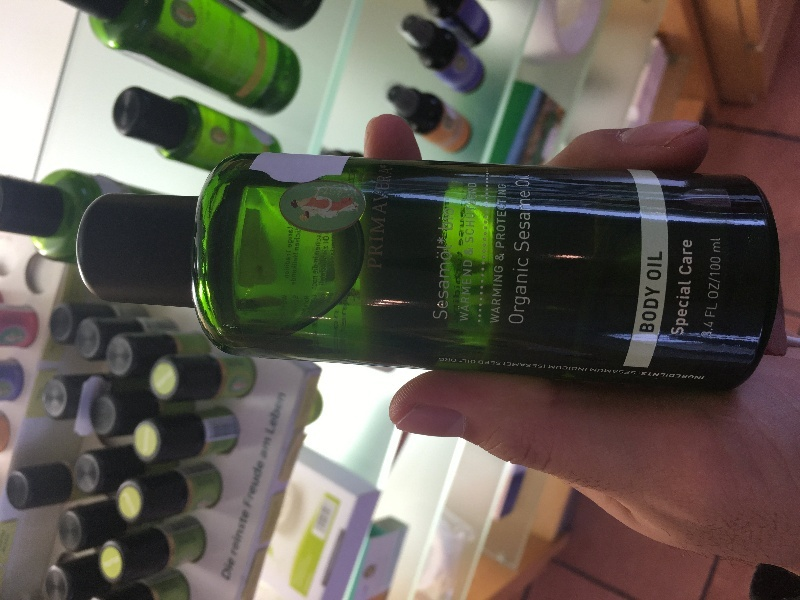text: (497, 184, 512, 325), (468, 182, 480, 322), (452, 188, 464, 319), (273, 391, 288, 462), (439, 207, 448, 322), (513, 257, 528, 326), (258, 391, 272, 462), (385, 166, 394, 272), (241, 459, 256, 512), (377, 166, 384, 272), (226, 508, 240, 560), (449, 207, 455, 322), (519, 191, 528, 253), (645, 285, 656, 334), (679, 279, 688, 338), (342, 306, 352, 359), (241, 508, 251, 560), (709, 256, 720, 300), (324, 246, 336, 286), (257, 459, 266, 512), (293, 253, 304, 286), (228, 555, 240, 584), (312, 316, 320, 357), (689, 279, 694, 338), (293, 295, 304, 320), (193, 460, 208, 478), (648, 251, 656, 281), (177, 517, 192, 533), (211, 422, 224, 440), (225, 422, 238, 440), (316, 233, 320, 290), (593, 367, 608, 382), (609, 367, 624, 382), (625, 367, 640, 382), (641, 367, 656, 382), (657, 367, 672, 382), (673, 367, 688, 382), (689, 367, 704, 382), (706, 302, 720, 318), (682, 239, 688, 276), (282, 295, 288, 332), (180, 460, 192, 478), (529, 257, 532, 326), (295, 229, 304, 251), (657, 285, 661, 334), (705, 321, 715, 340), (689, 239, 694, 276), (657, 251, 663, 281), (709, 238, 720, 253), (561, 363, 576, 374), (513, 360, 528, 371), (529, 360, 544, 371), (332, 234, 336, 273), (514, 177, 528, 188), (305, 295, 311, 320), (337, 311, 340, 358), (449, 356, 464, 365), (465, 188, 466, 319), (168, 517, 176, 533), (322, 236, 336, 245), (529, 191, 531, 253), (549, 363, 560, 374), (577, 363, 588, 374), (481, 359, 496, 367), (321, 233, 323, 290), (289, 227, 294, 248), (465, 356, 476, 365), (193, 517, 199, 533), (334, 311, 336, 358), (504, 360, 512, 371), (289, 250, 292, 279), (439, 356, 448, 365), (209, 460, 213, 478), (286, 250, 288, 279), (721, 256, 722, 300), (497, 359, 501, 367), (590, 367, 592, 382), (705, 367, 707, 382), (529, 177, 531, 188), (545, 360, 547, 371), (287, 227, 288, 248), (478, 359, 480, 367), (721, 238, 722, 253)
